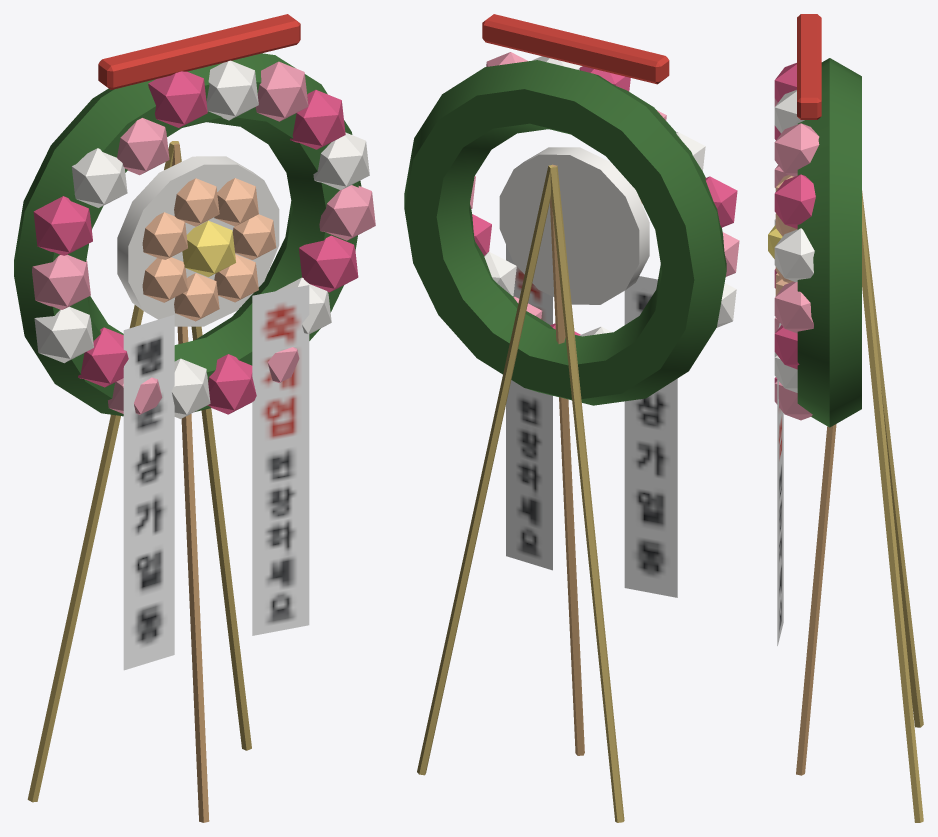
File: SC_Shop_Wreath_Stand.gltf
The picture shows the model from 3 angles, left to right: view 1: azimuth 30°, elevation 25°; view 2: azimuth 150°, elevation 25°; view 3: azimuth 270°, elevation 25°; orthographic projection. The views are drawn at different scales.
Visible parts, largest first — view 1: SC_Shop_Wreath_Stand; view 2: SC_Shop_Wreath_Stand; view 3: SC_Shop_Wreath_Stand.
Part boxes in pixels (left/top/right/bottom): SC_Shop_Wreath_Stand: left=14, top=14, right=375, bottom=822; SC_Shop_Wreath_Stand: left=404, top=14, right=739, bottom=822; SC_Shop_Wreath_Stand: left=768, top=14, right=923, bottom=822.
Size of the model in its own units: 0.9 by 1.92 by 0.3775.
Materials: 2 (2 with a texture image).
